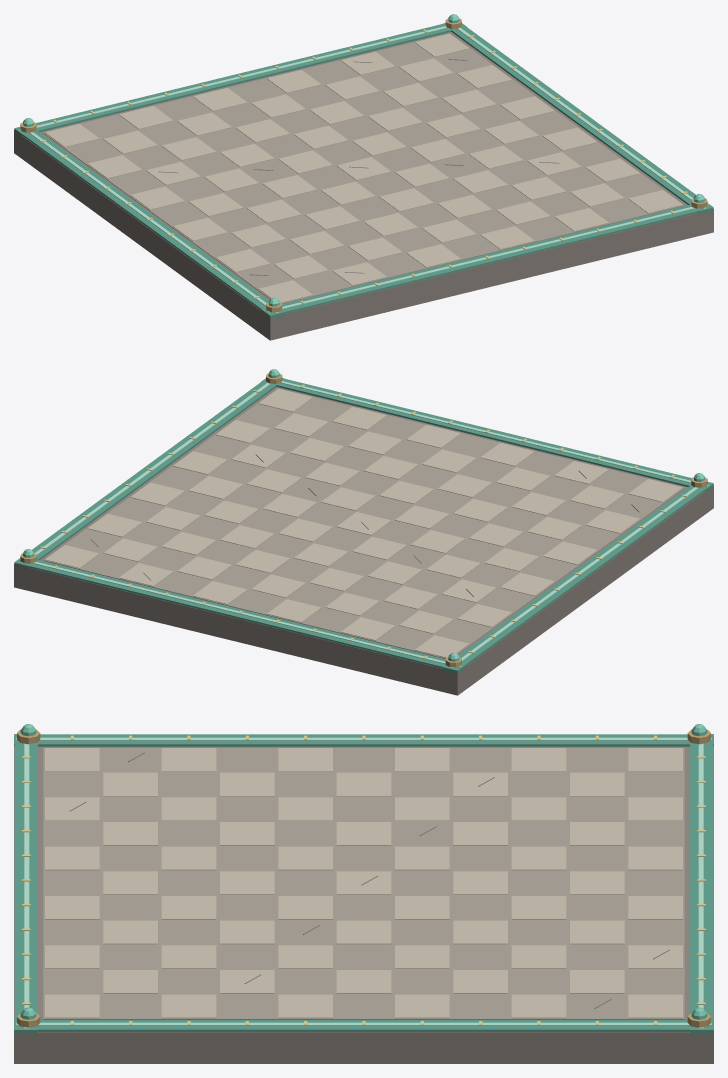
The model's file is losa_marco.glb.
3 renders of one model, top to bottom at view 1: azimuth 30°, elevation 25°; view 2: azimuth 150°, elevation 25°; view 3: azimuth 270°, elevation 25°, orthographic. The views are drawn at different scales.
Parts seen in each view (by area): view 1: losa_marco; view 2: losa_marco; view 3: losa_marco.
Boxes of the visible parts, left/top/right/bottom form: losa_marco: left=14, top=14, right=713, bottom=340; losa_marco: left=14, top=369, right=713, bottom=695; losa_marco: left=14, top=724, right=713, bottom=1063.
Bounding box in the file's own units: 12 × 0.94 × 12.
